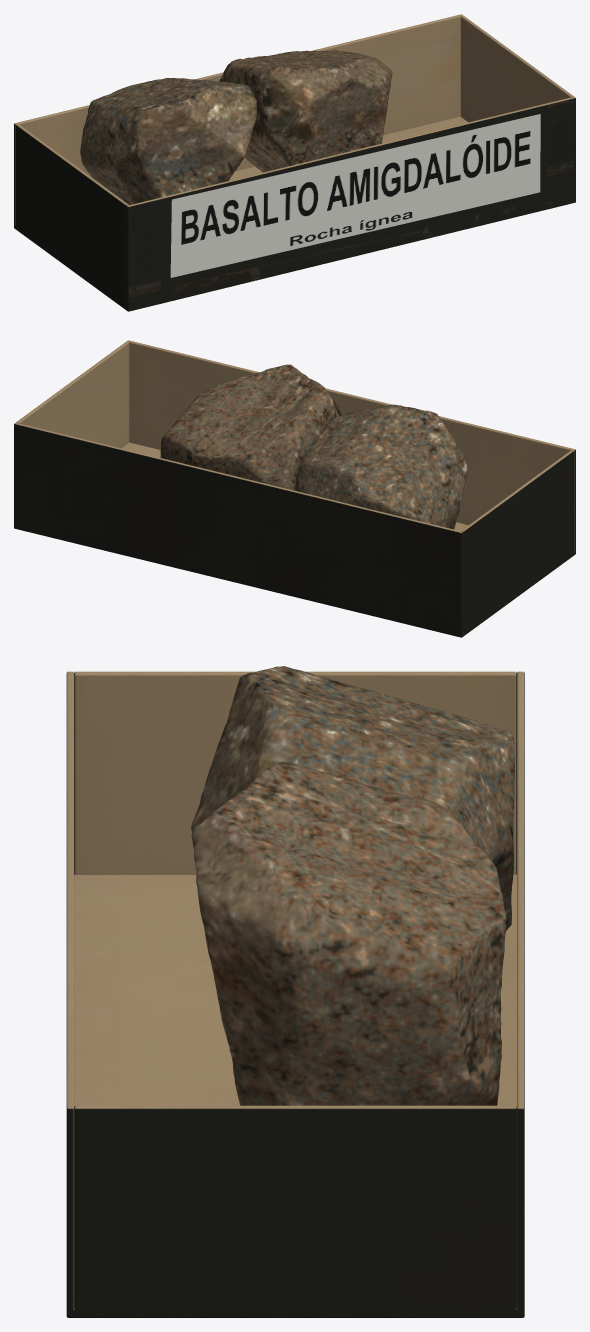
The model's file is rocha_02_07_basalto-amigdaloide.glb.
3 renders of one model, top to bottom at view 1: azimuth 30°, elevation 25°; view 2: azimuth 150°, elevation 25°; view 3: azimuth 270°, elevation 25°, orthographic. The views are drawn at different scales.
Parts seen in each view (by area): view 1: Etiqueta_mo07, Bandeja_Frente_mo07, Fragmento_01_mo07, Fragmento_02_mo07, Bandeja_Esquerda_mo07, Bandeja_Fundo_mo07, Bandeja_Direita_mo07, Bandeja_Base_mo07; view 2: Bandeja_Fundo_mo07, Fragmento_01_mo07, Fragmento_02_mo07, Bandeja_Frente_mo07, Bandeja_Esquerda_mo07, Bandeja_Direita_mo07, Bandeja_Base_mo07; view 3: Bandeja_Direita_mo07, Fragmento_02_mo07, Bandeja_Base_mo07, Bandeja_Esquerda_mo07, Fragmento_01_mo07, Bandeja_Frente_mo07, Bandeja_Fundo_mo07.
Part boxes in pixels (x1,y1,x2,y2): Etiqueta_mo07: (170,114,540,277); Bandeja_Frente_mo07: (126,96,575,309); Fragmento_01_mo07: (80,78,256,204); Fragmento_02_mo07: (219,50,392,172); Bandeja_Esquerda_mo07: (16,124,128,308); Bandeja_Fundo_mo07: (14,14,462,226); Bandeja_Direita_mo07: (460,15,573,122); Bandeja_Base_mo07: (14,116,575,311); Bandeja_Fundo_mo07: (14,422,463,637); Fragmento_01_mo07: (295,404,468,529); Fragmento_02_mo07: (160,364,341,490); Bandeja_Frente_mo07: (127,340,575,554); Bandeja_Esquerda_mo07: (461,450,573,635); Bandeja_Direita_mo07: (16,341,129,448); Bandeja_Base_mo07: (14,442,574,637); Bandeja_Direita_mo07: (74,1105,516,1317); Fragmento_02_mo07: (191,762,505,1105); Bandeja_Base_mo07: (66,874,524,1317); Bandeja_Esquerda_mo07: (74,671,516,874); Fragmento_01_mo07: (191,666,515,930); Bandeja_Frente_mo07: (66,671,74,1317); Bandeja_Fundo_mo07: (517,671,524,1317).
Bounding box in the file's own units: 0.2006 × 0.0672 × 0.089.
3 materials, 3 textured.
